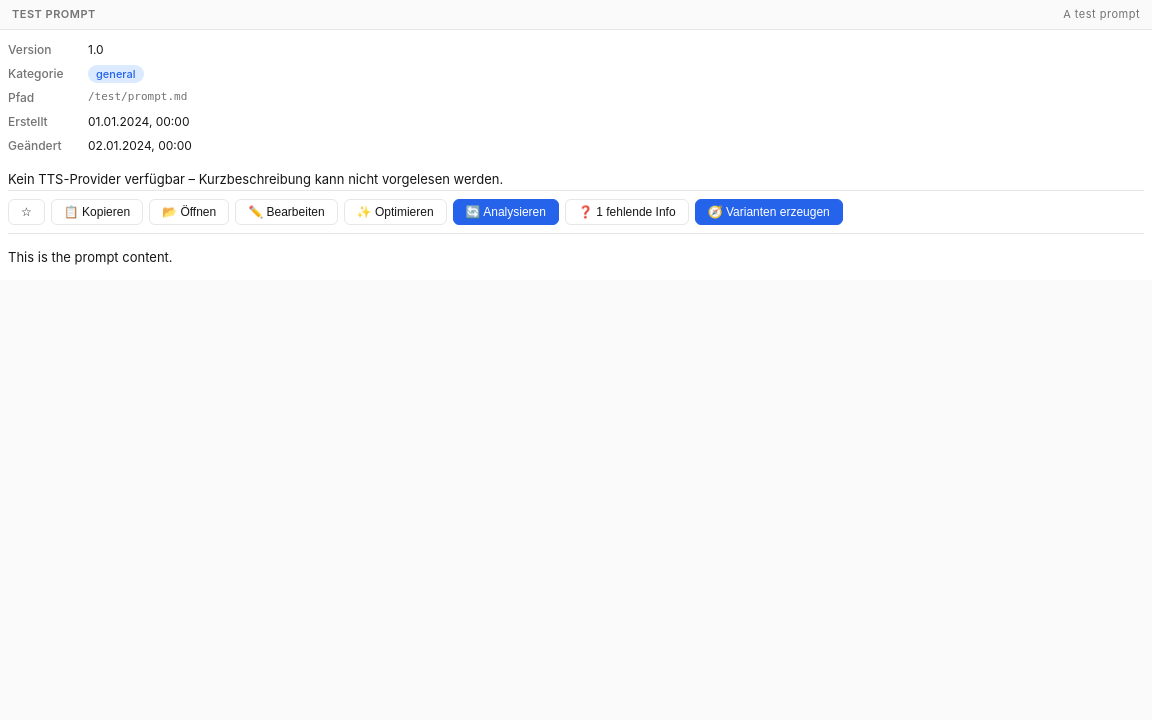
DetailsPanel — Gate Trigger (Batch 6A) › handleOpenOptimizer opens Gate when REQUIRED session with non-skipped items exists
Click the button "✨ Optimieren".
click(395, 212)  # box [344,198,447,224]
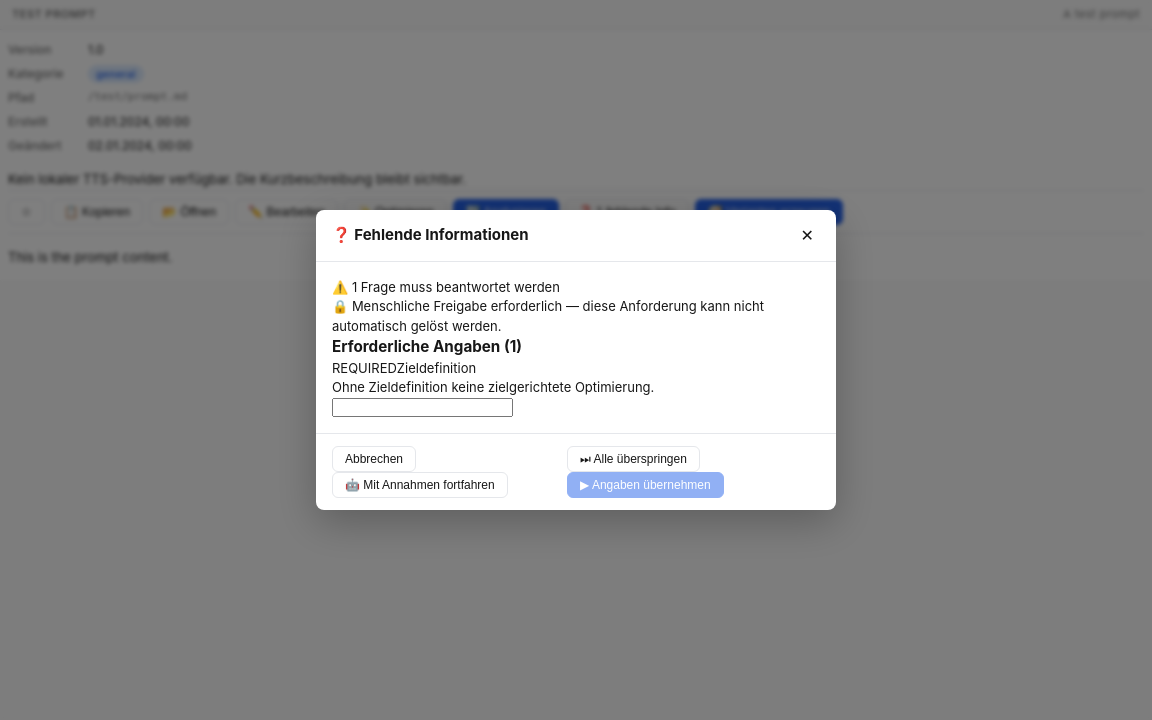
Expected: the heading "❓ Fehlende Informationen" is shown, [332,224,529,246]
